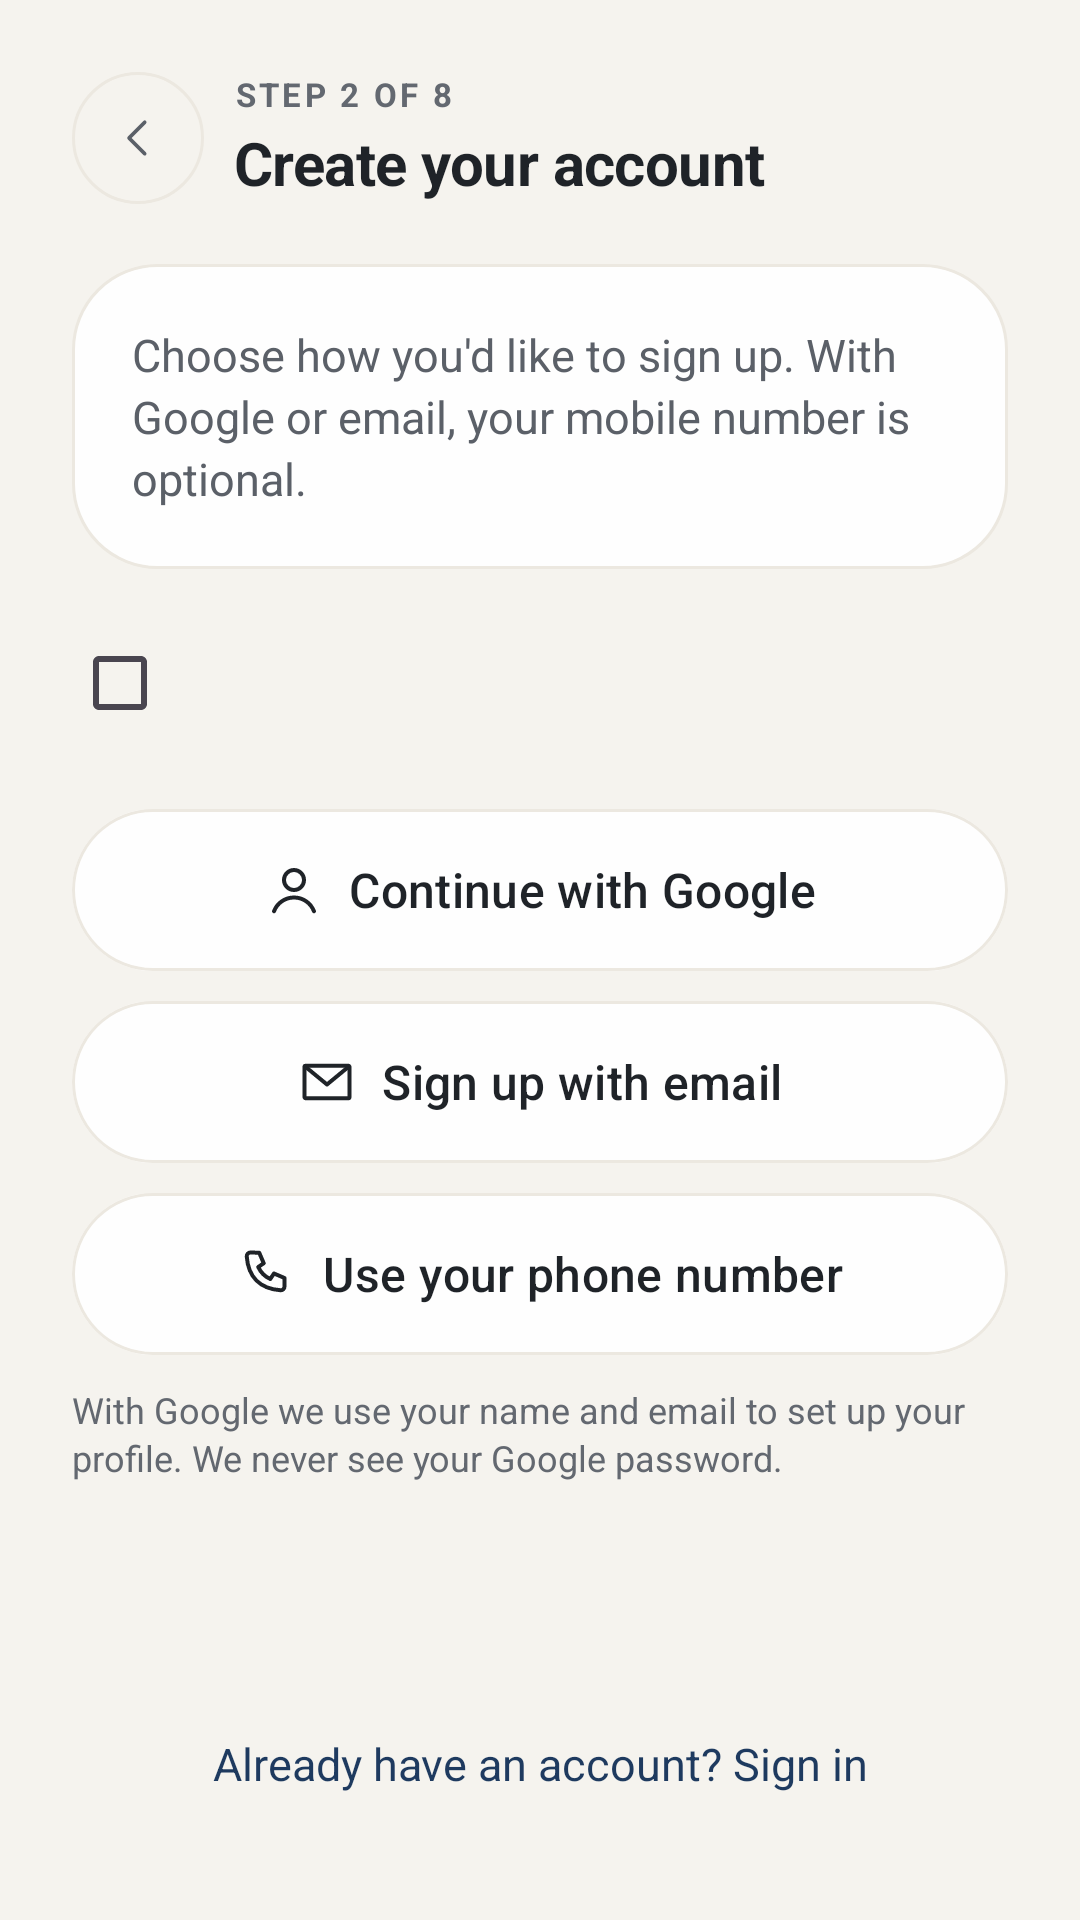

Icons on this 1080px x 1920px Android screen, each with the point to tap as point (x, y):
Back: point (137, 138)
